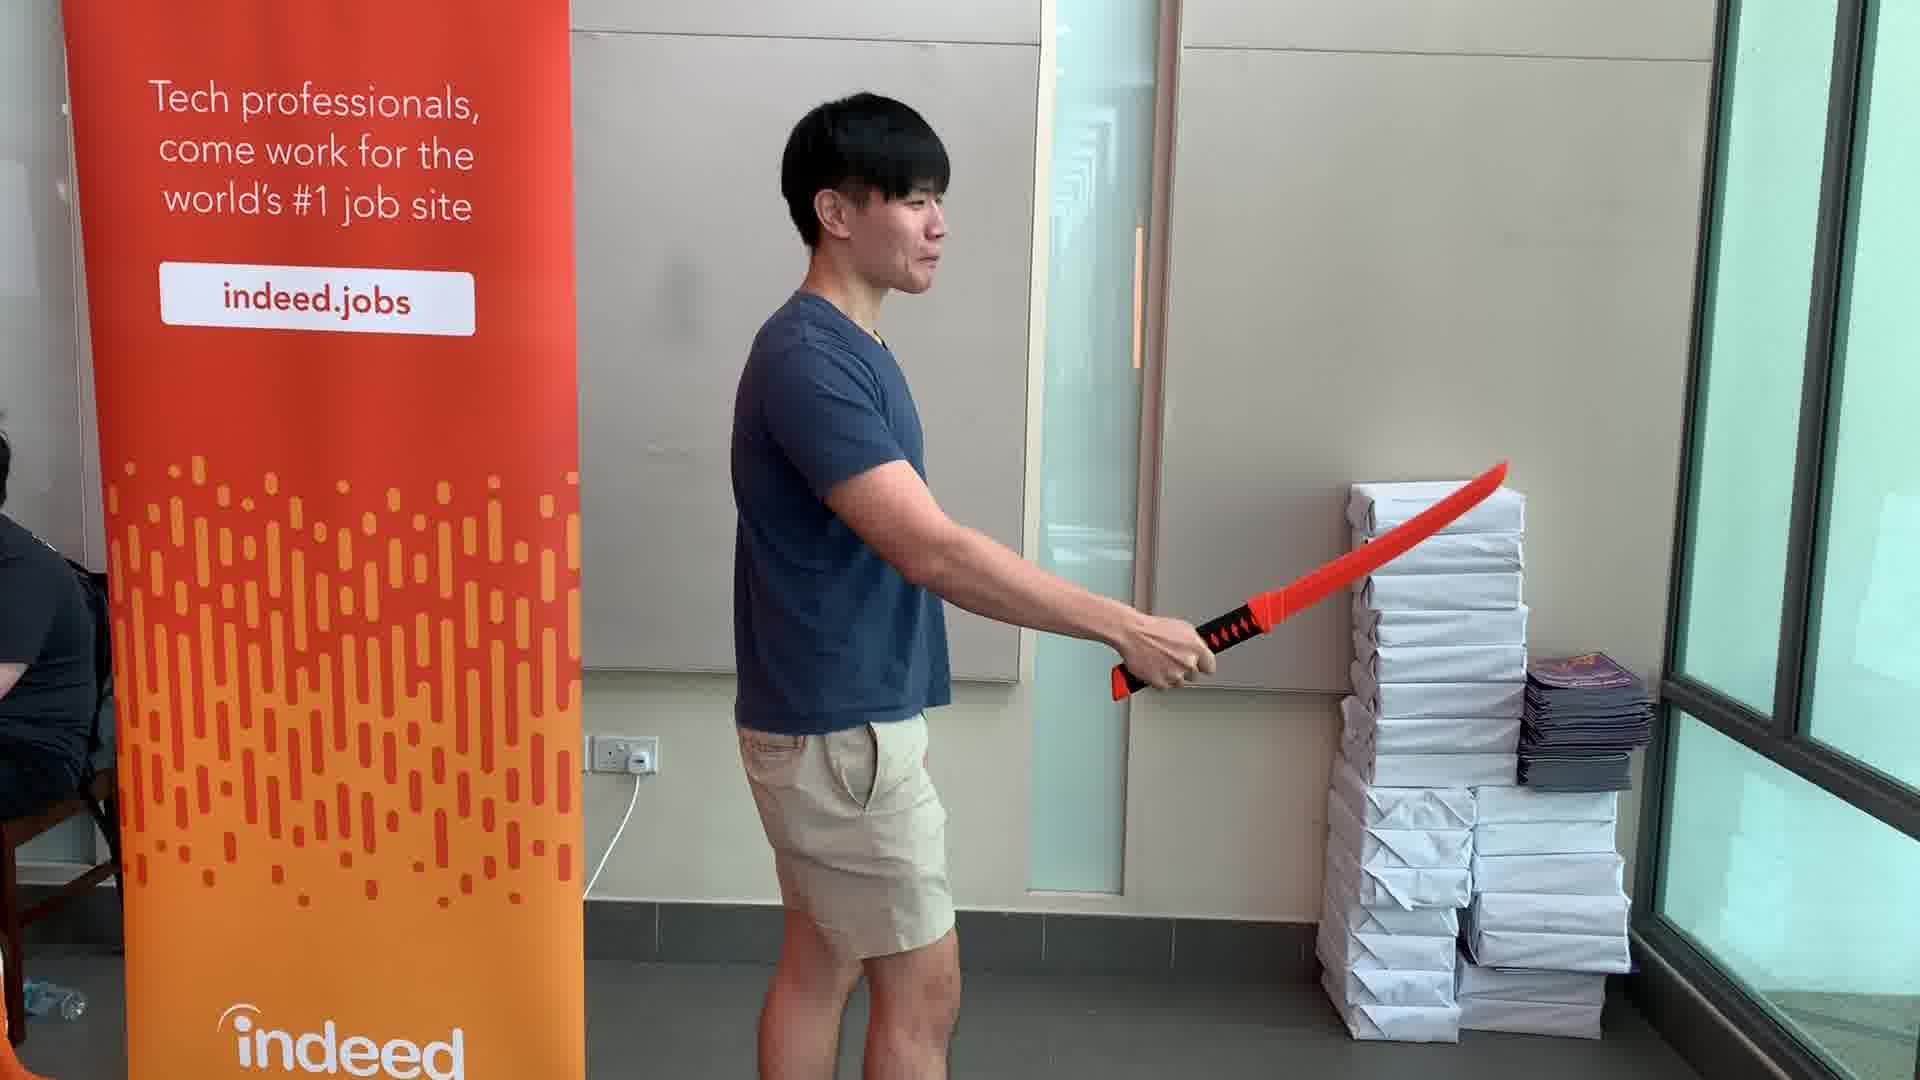knife: (1095, 450, 1516, 709)
